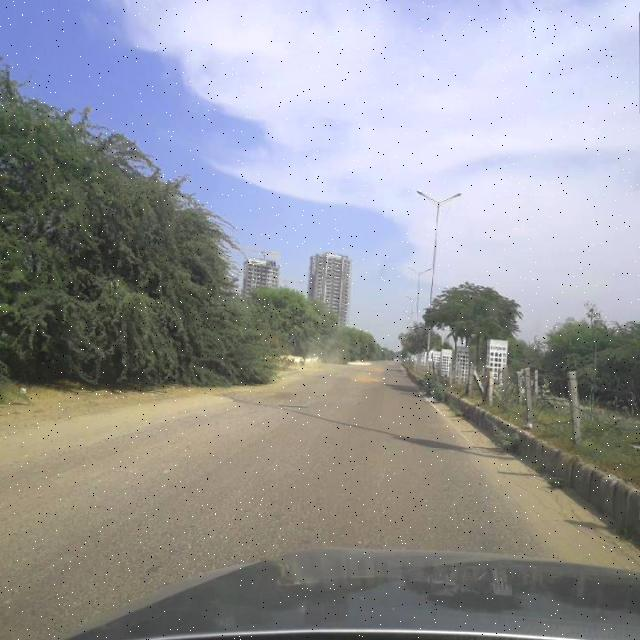D20: (76, 430, 520, 555)
D40: (228, 383, 316, 415), (338, 368, 378, 385), (337, 391, 364, 408)
